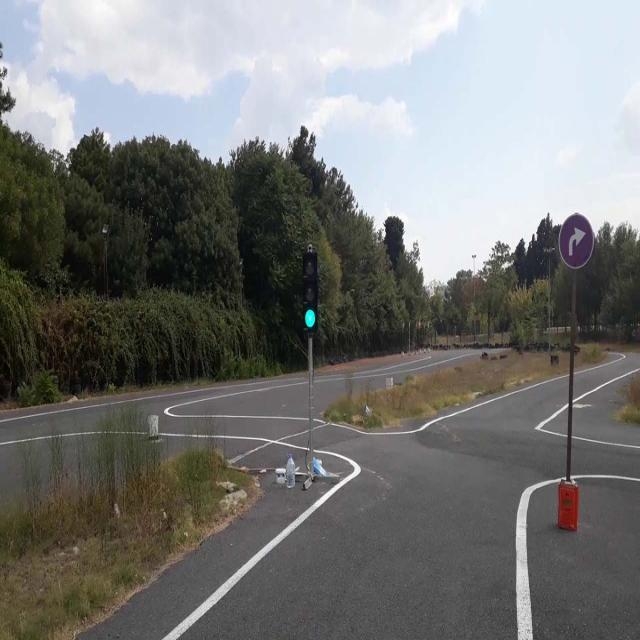sag: (558, 212, 594, 269)
yesil: (304, 253, 317, 331)
